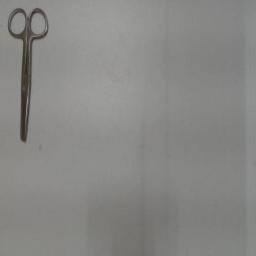Dressing Scissors: (0, 2, 54, 160)
